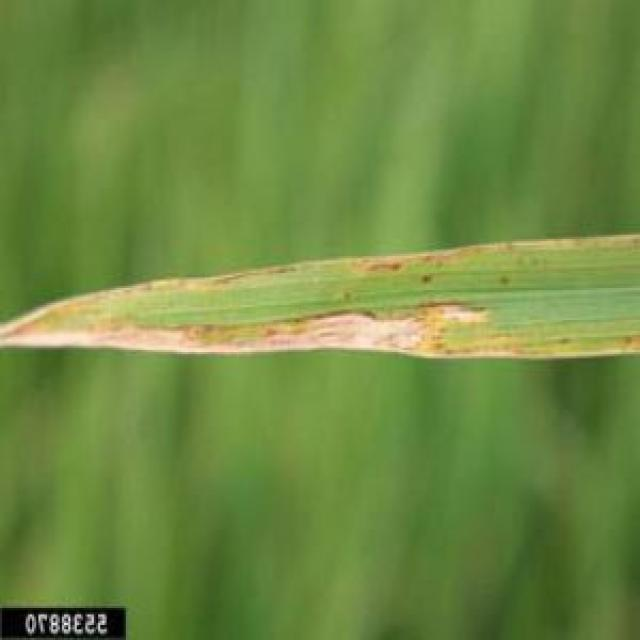Bacterial_Blight: (1, 298, 640, 364)
